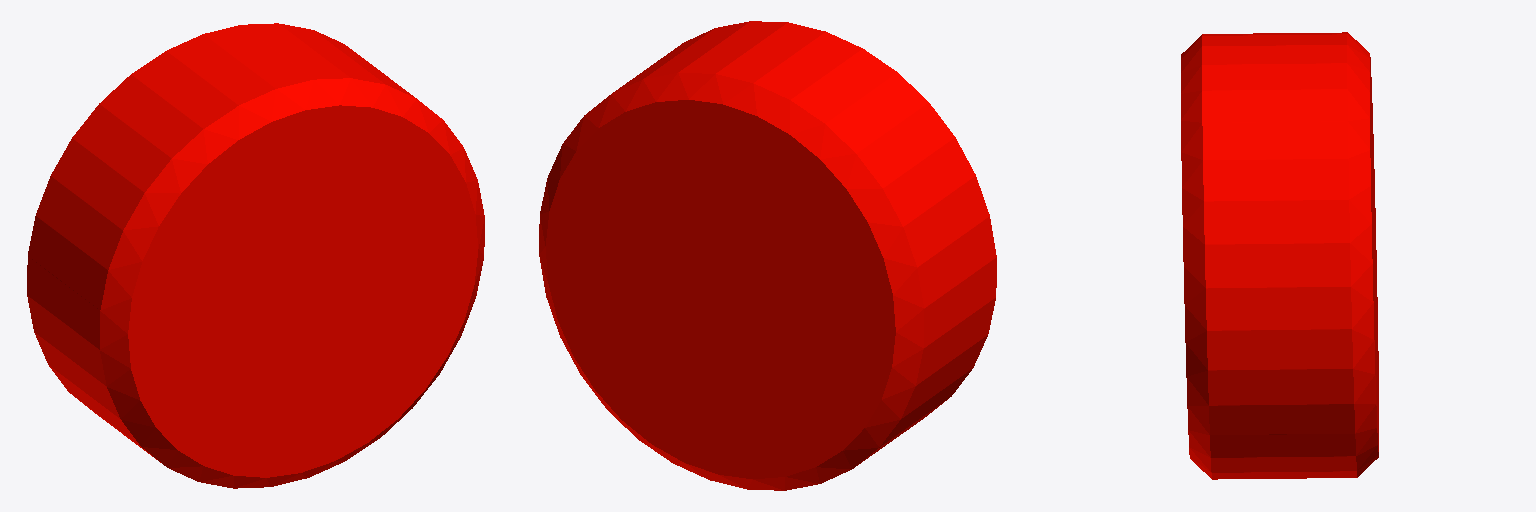
Rendered from circleShape.obj.
The picture shows the model from 3 angles: view 1: azimuth 30°, elevation 25°; view 2: azimuth 150°, elevation 25°; view 3: azimuth 270°, elevation 25°; orthographic projection.
Parts seen in each view (by area): view 1: circle.001_Cylinder.060; view 2: circle.001_Cylinder.060; view 3: circle.001_Cylinder.060.
Part boxes in pixels (left/top/right/bottom): circle.001_Cylinder.060: left=27, top=23, right=484, bottom=488; circle.001_Cylinder.060: left=539, top=21, right=996, bottom=490; circle.001_Cylinder.060: left=1181, top=32, right=1378, bottom=479.
Bounding box in the file's own units: 0.8147 × 0.8178 × 0.365.